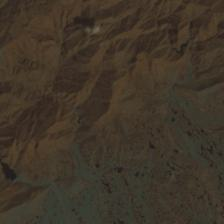landslides: (0, 50, 6, 68)
